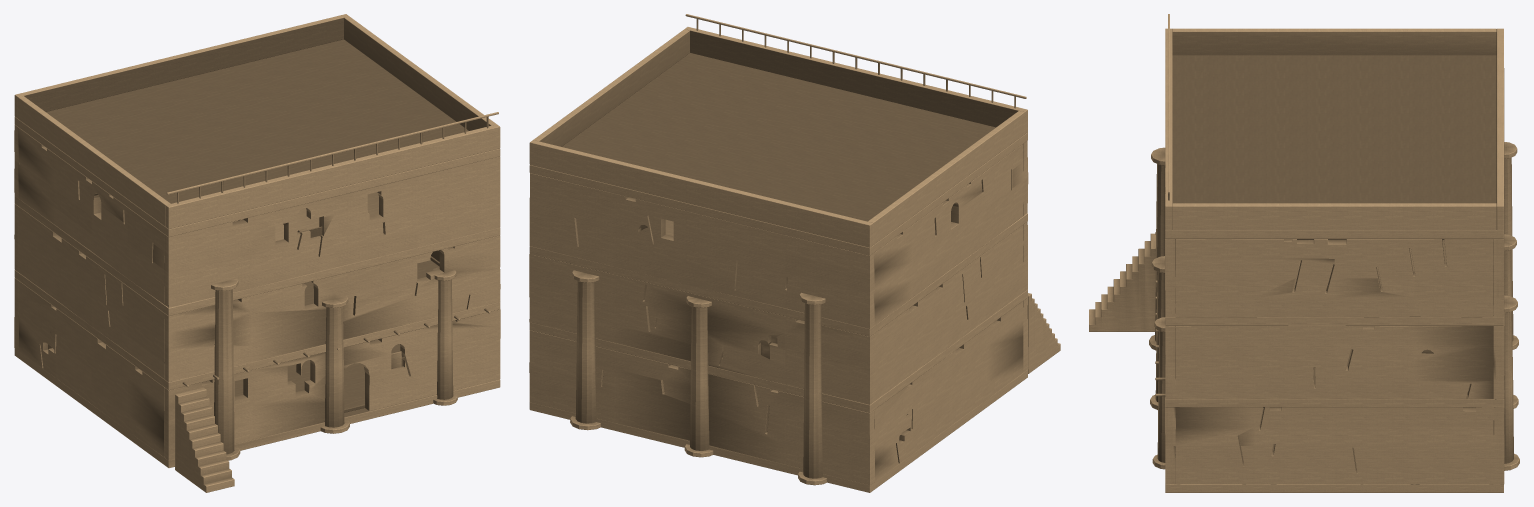
The model's file is block_13.glb.
3 renders of one model, left to right at view 1: azimuth 30°, elevation 25°; view 2: azimuth 150°, elevation 25°; view 3: azimuth 270°, elevation 25°, orthographic. The views are drawn at different scales.
Parts seen in each view (by area): view 1: block; view 2: block; view 3: block.
Part boxes in pixels (x1,y1,x2,y2): block: (14, 14, 500, 492); block: (529, 14, 1060, 492); block: (1089, 14, 1519, 492).
Size of the model in its own units: 17.39 by 13.72 by 17.77.
1 material, 1 textured.
